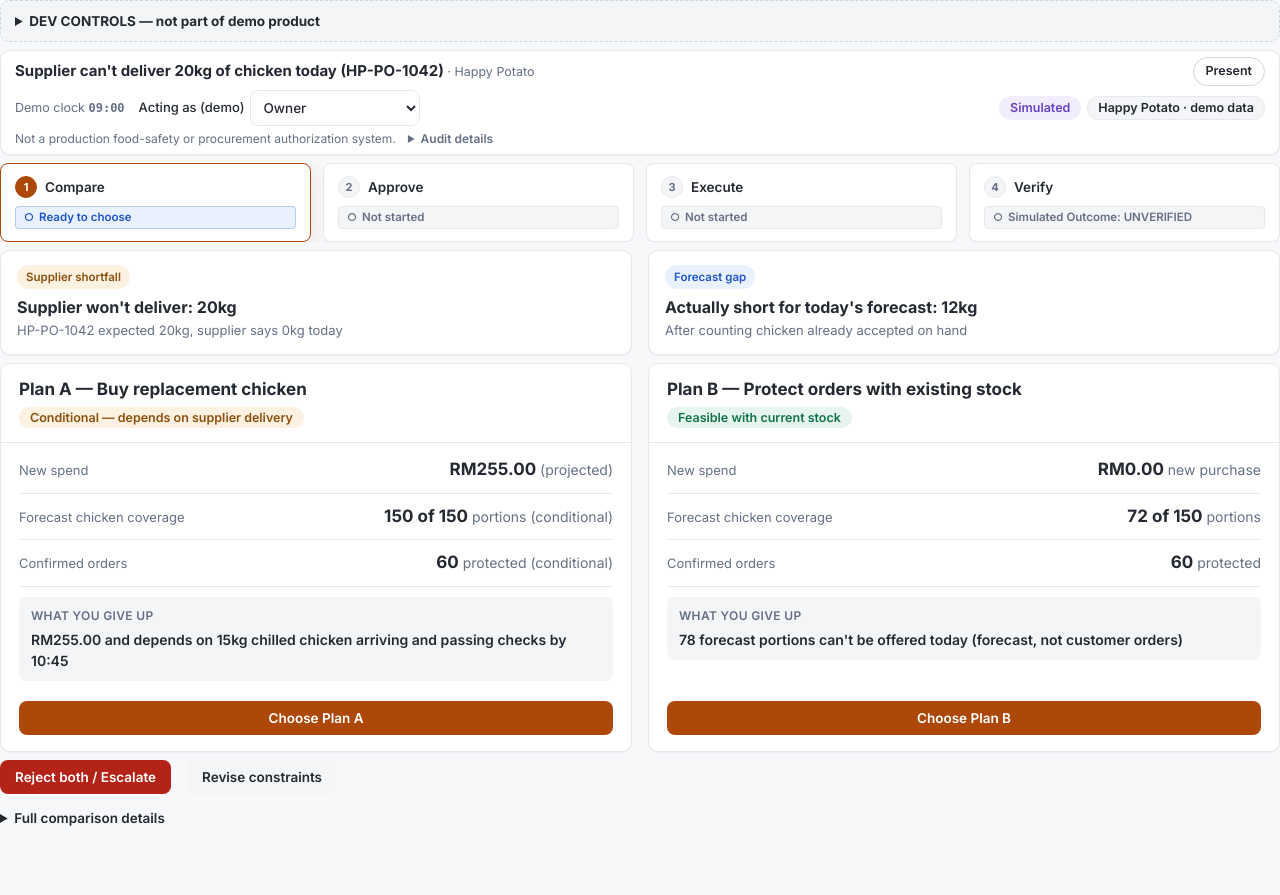
Test: Presentation mode › hides dev controls and audit details, keeps truth labels, and survives in-app navigation
This screenshot has width=1280, height=895.
Expected: the element with test id "p5-dev-controls" is shown, [0,0,1279,42]
Expected: the element with test id "p5-context-details" is shown, [408,130,493,148]
Step 1. Click the button with test id "p5-presentation-toggle" → click(1229, 72), box [1192,57,1265,86]
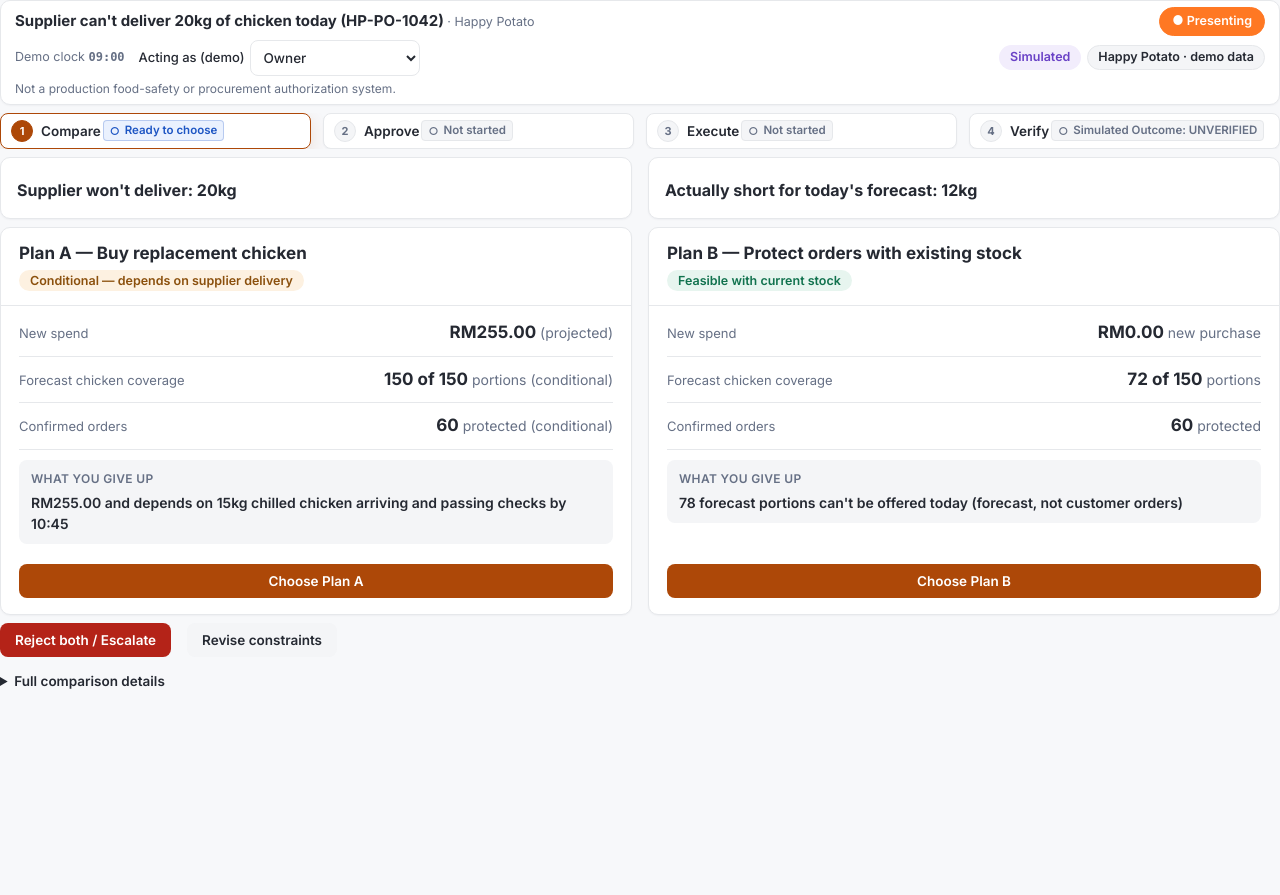
Expected: the text titled "SIMULATED_CALCULATION" is shown, [1010,49,1070,64]
Now the element with test id "p5-dev-controls" is gone
Now the element with test id "p5-context-details" is gone
# Navigate with on-page CTA only
Step 2. Click the button "Choose Plan B" → click(964, 581), box [667,564,1261,598]
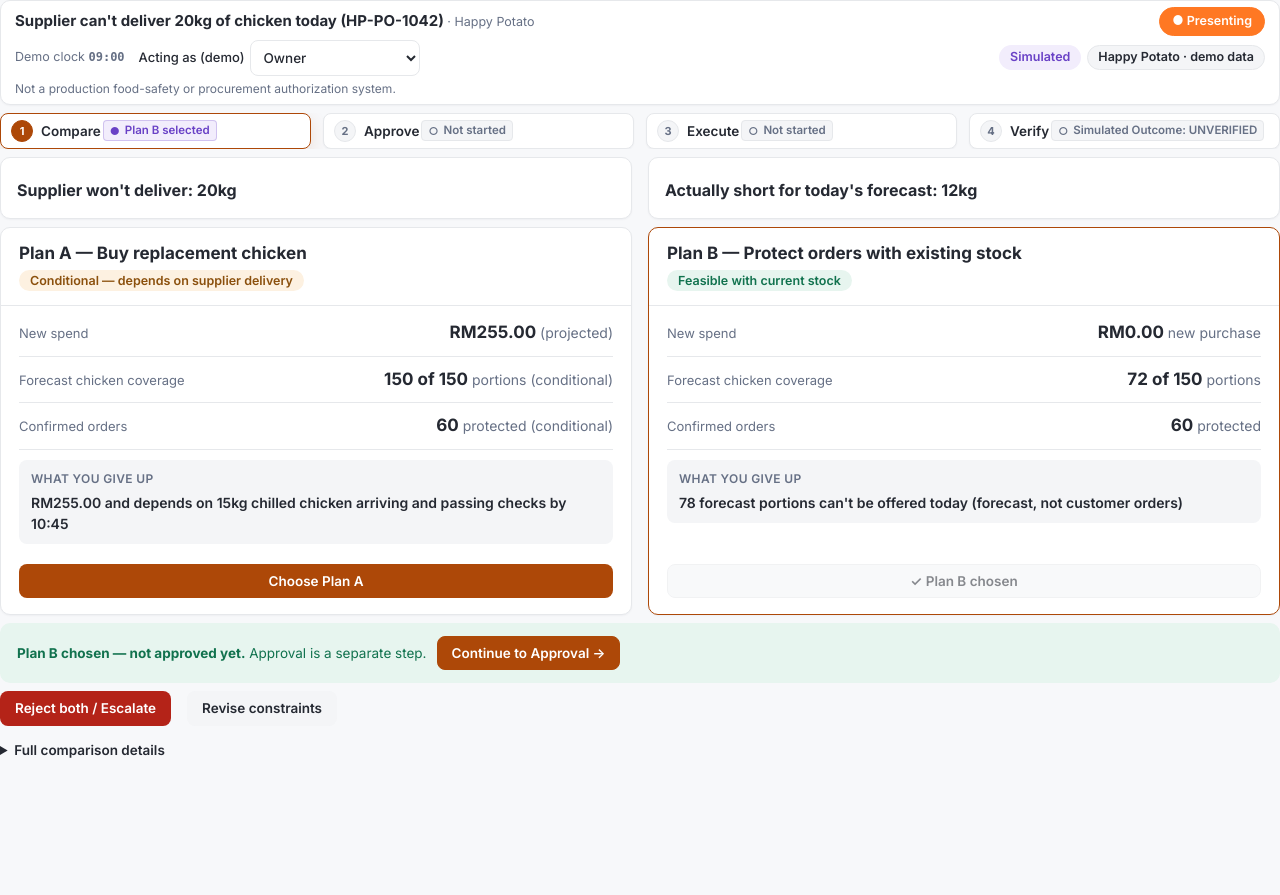
Step 3. Click the link "Continue to Approval →" → click(528, 653), box [436,636,620,670]
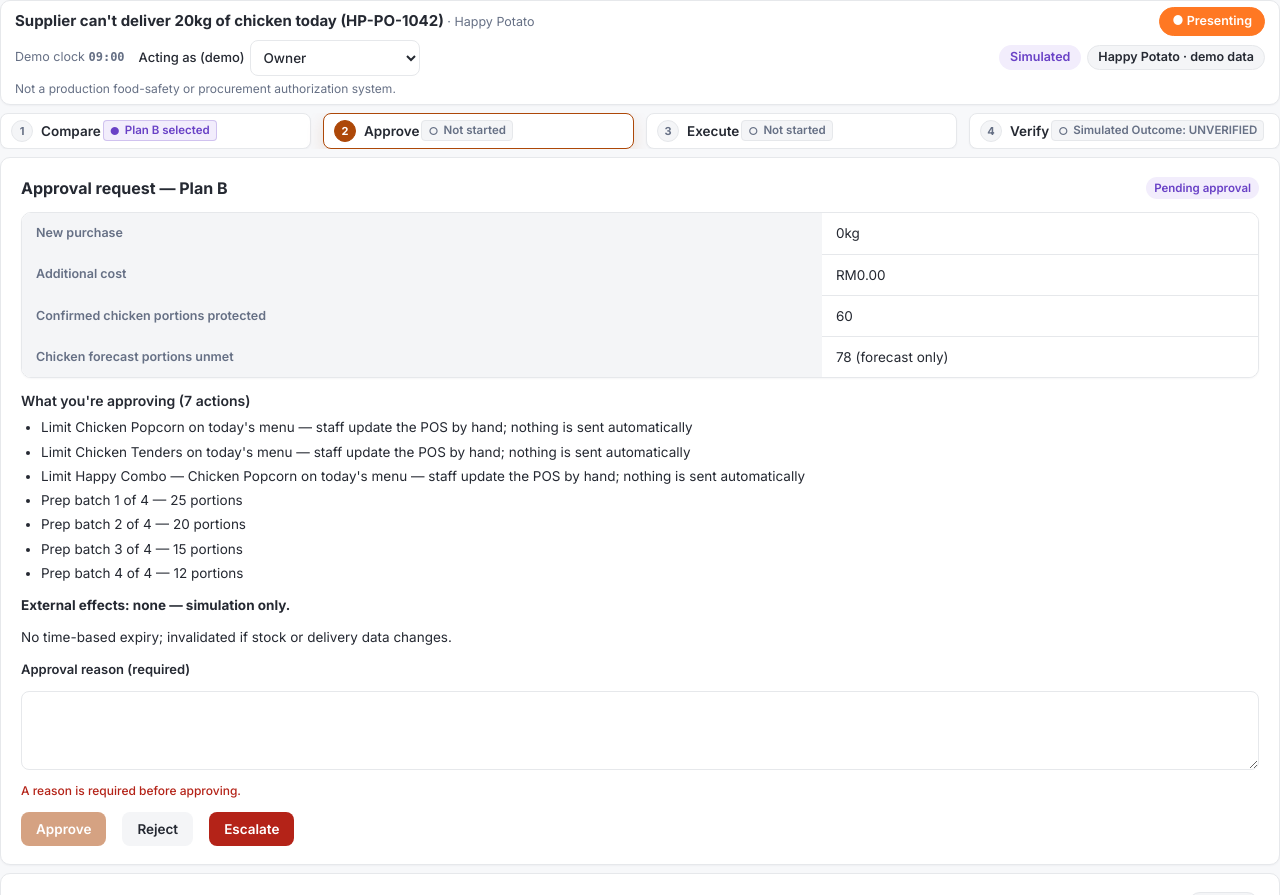
Now the heading "Approval request — Plan B" is shown, box [21,176,228,200]
